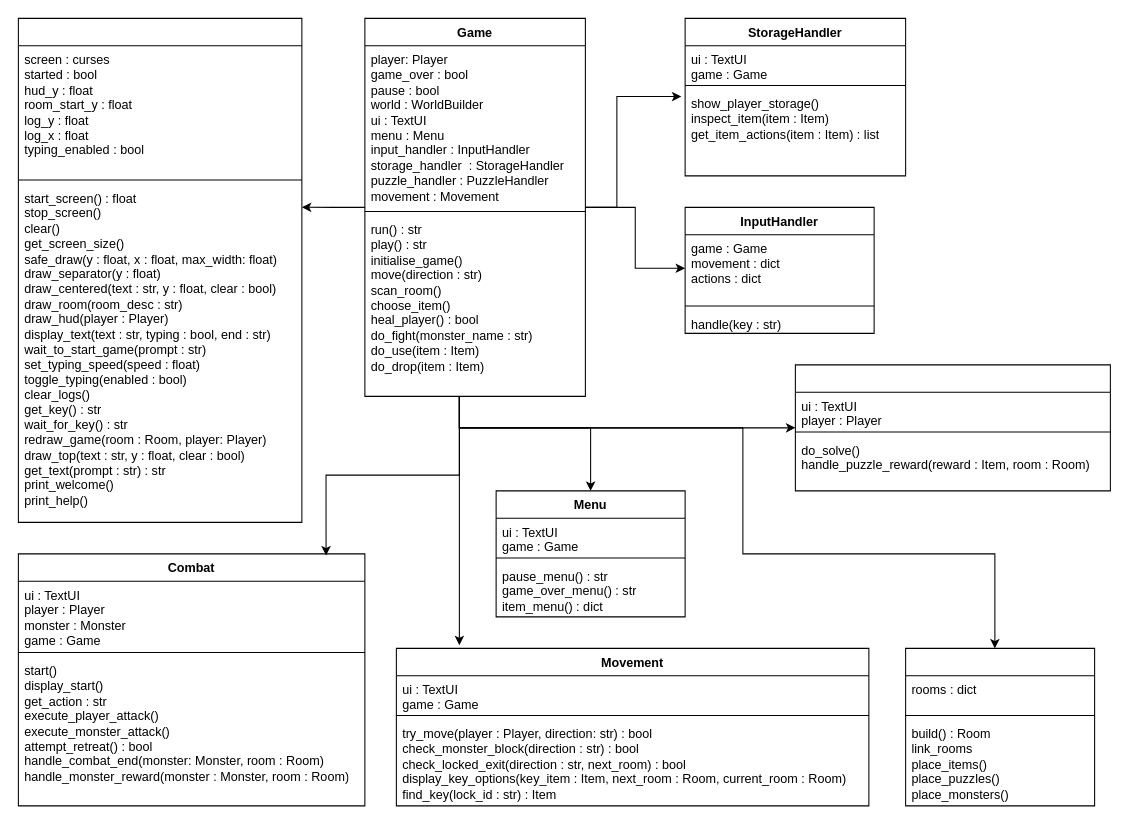
This 1129x827 diagram has some shape labels left out. The box of each missing label's shape, as (x1, y1, x2, y2) in pixels:
PuzzleHandler: (794, 364, 1110, 491)
TextUI: (17, 17, 302, 522)
WorldBuilder: (905, 647, 1095, 806)
